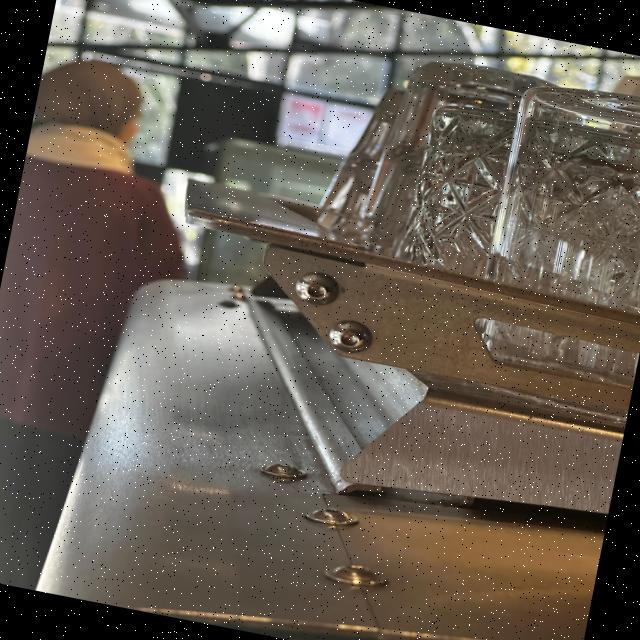Hex Socket Allen: (321, 316, 376, 362), (288, 268, 342, 312)
